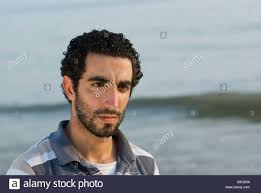middle_eastern_male: (74, 39, 138, 142)
